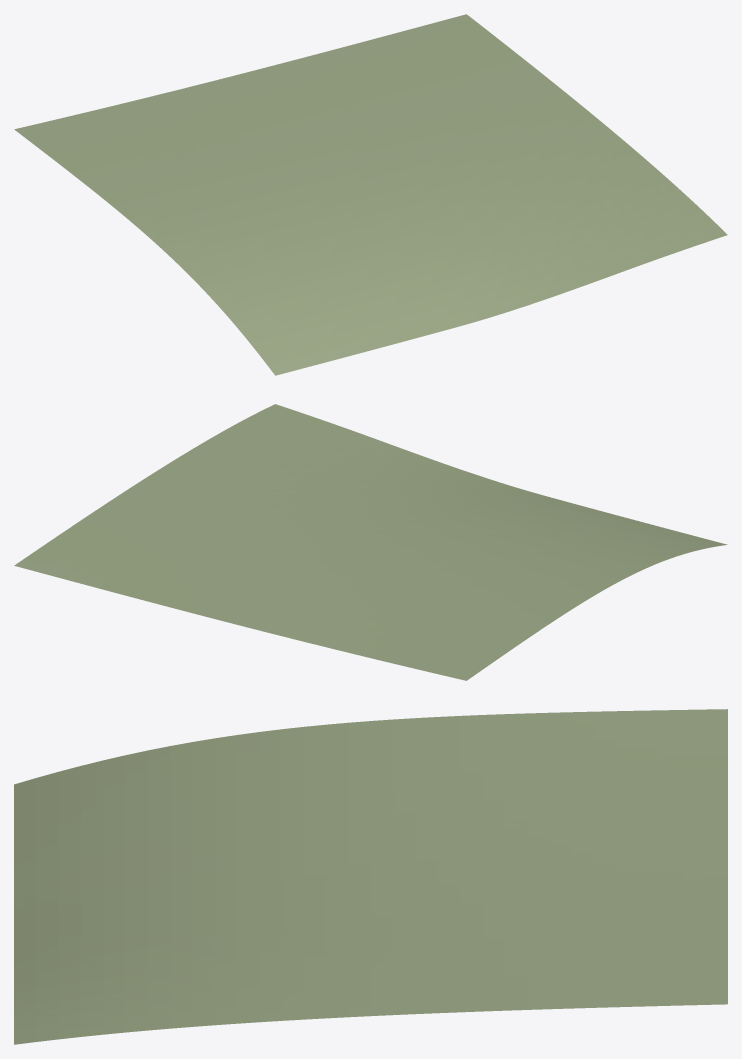
Rendered from expanse-4-4.glb.
3 renders of one model, top to bottom at view 1: azimuth 30°, elevation 25°; view 2: azimuth 150°, elevation 25°; view 3: azimuth 270°, elevation 25°, orthographic. The views are drawn at different scales.
Parts seen in each view (by area): view 1: expanse-4-4; view 2: expanse-4-4; view 3: expanse-4-4.
Part boxes in pixels (left/top/right/bottom): expanse-4-4: left=14, top=14, right=727, bottom=375; expanse-4-4: left=14, top=404, right=727, bottom=680; expanse-4-4: left=14, top=709, right=727, bottom=1044.
Size of the model in its own units: 256 by 32.36 by 256.
